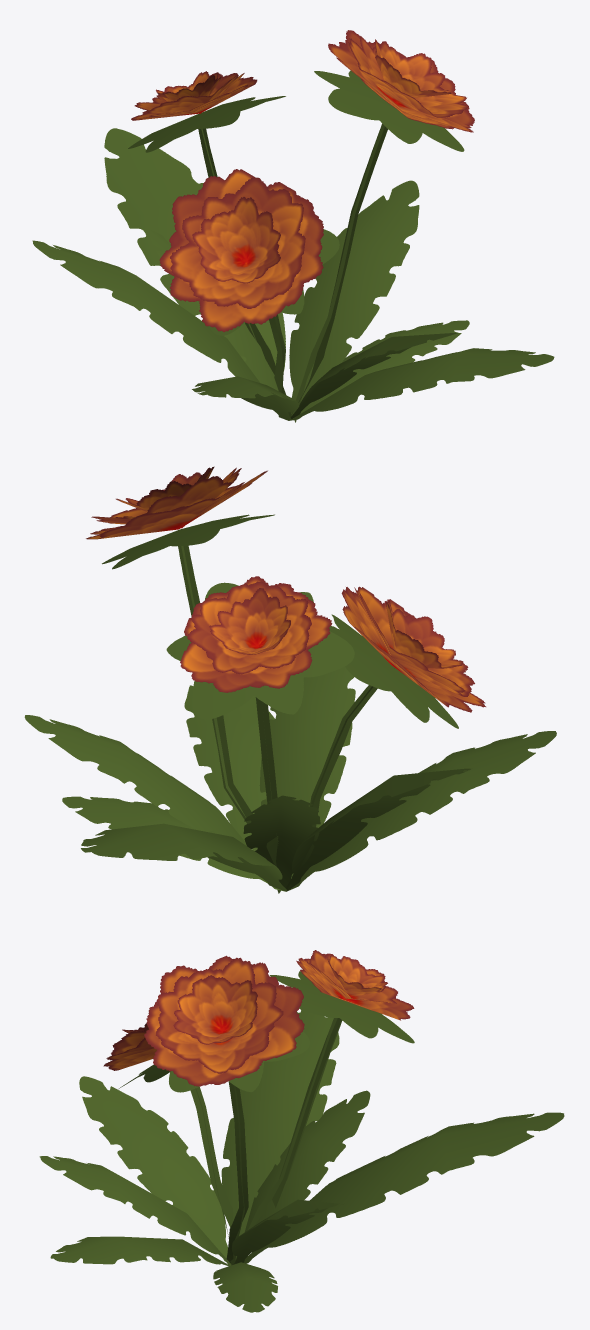
The model's file is Flower1.fbx.
3 views of the same model, one above another, from view 1: azimuth 30°, elevation 25°; view 2: azimuth 150°, elevation 25°; view 3: azimuth 270°, elevation 25° (orthographic). The views are drawn at different scales.
Parts seen in each view (by area): view 1: Flower 1; view 2: Flower 1; view 3: Flower 1.
Boxes of the visible parts, <box> form: Flower 1: <box>32,30,554,422</box>; Flower 1: <box>24,466,556,893</box>; Flower 1: <box>39,950,564,1312</box>.
Bounding box in the file's own units: 74.74 × 61.89 × 87.56.
